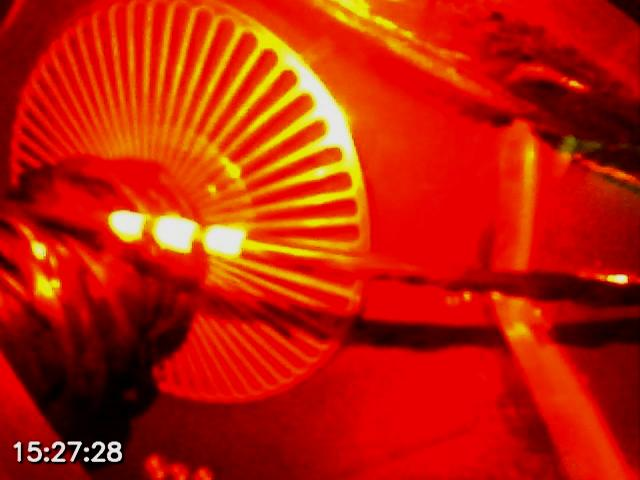white-dots: (105, 210, 248, 260)
